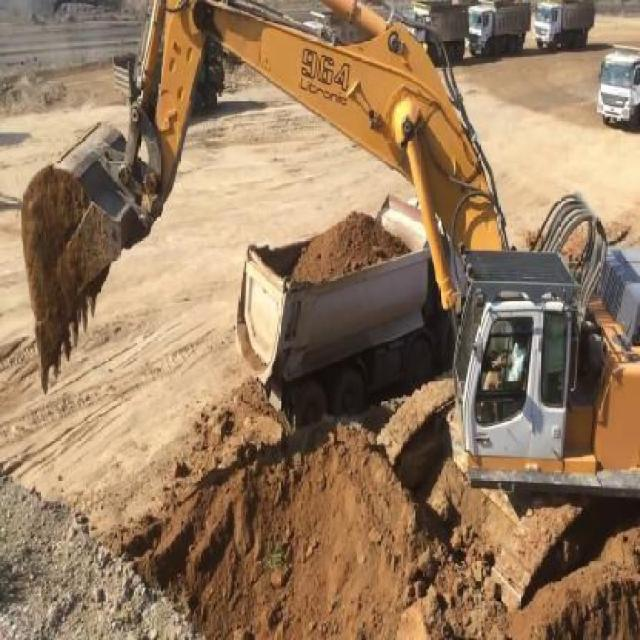dump_truck: (238, 195, 456, 419), (594, 38, 638, 136), (406, 0, 469, 55), (467, 1, 530, 54), (536, 0, 595, 49)
excavator: (20, 0, 639, 612)
